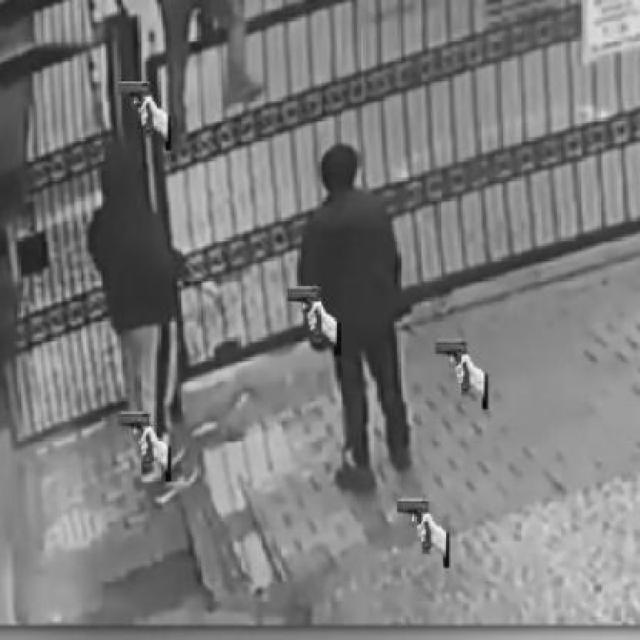non-violence: (90, 134, 204, 506), (299, 143, 411, 494)
weapon: (104, 64, 164, 132), (109, 400, 157, 478), (430, 320, 473, 405), (282, 277, 330, 351), (390, 488, 438, 558)
